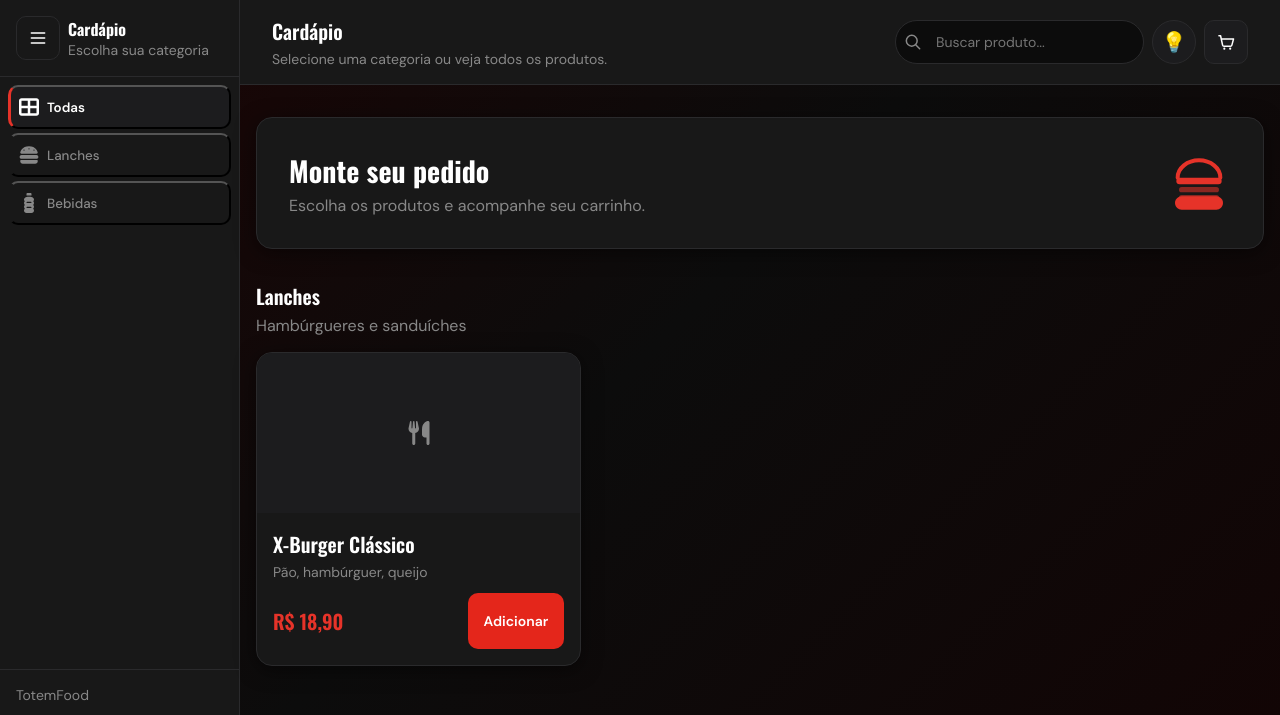
Test: TotemHomePage — modal de produto e modal de carrinho (TASK-120.1) › aumentar a quantidade no modal do produto antes de confirmar adiciona a quantidade escolhida
Expected: the heading "X-Burger Clássico" is shown, [273,529,415,559]
Click the button "Adicionar": (516, 621) [468,593,564,649]
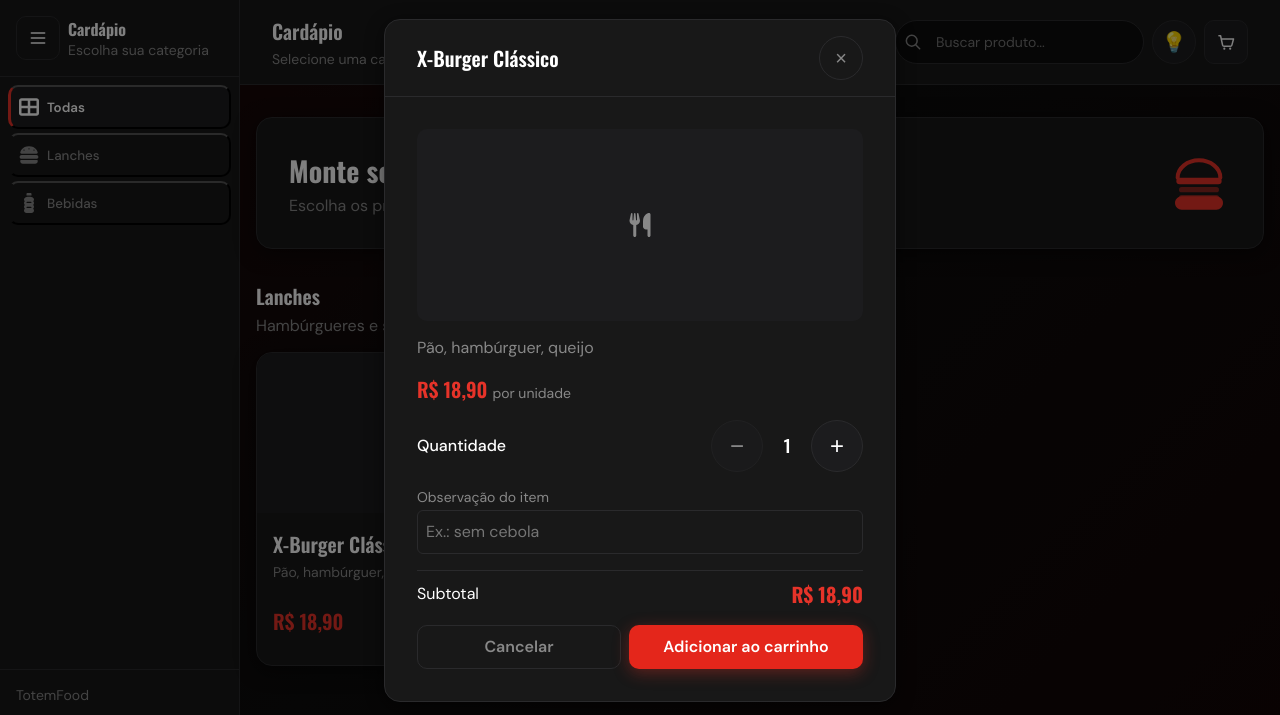
Click the button named "Aumentar quantidade": (837, 446) [811,420,863,472]
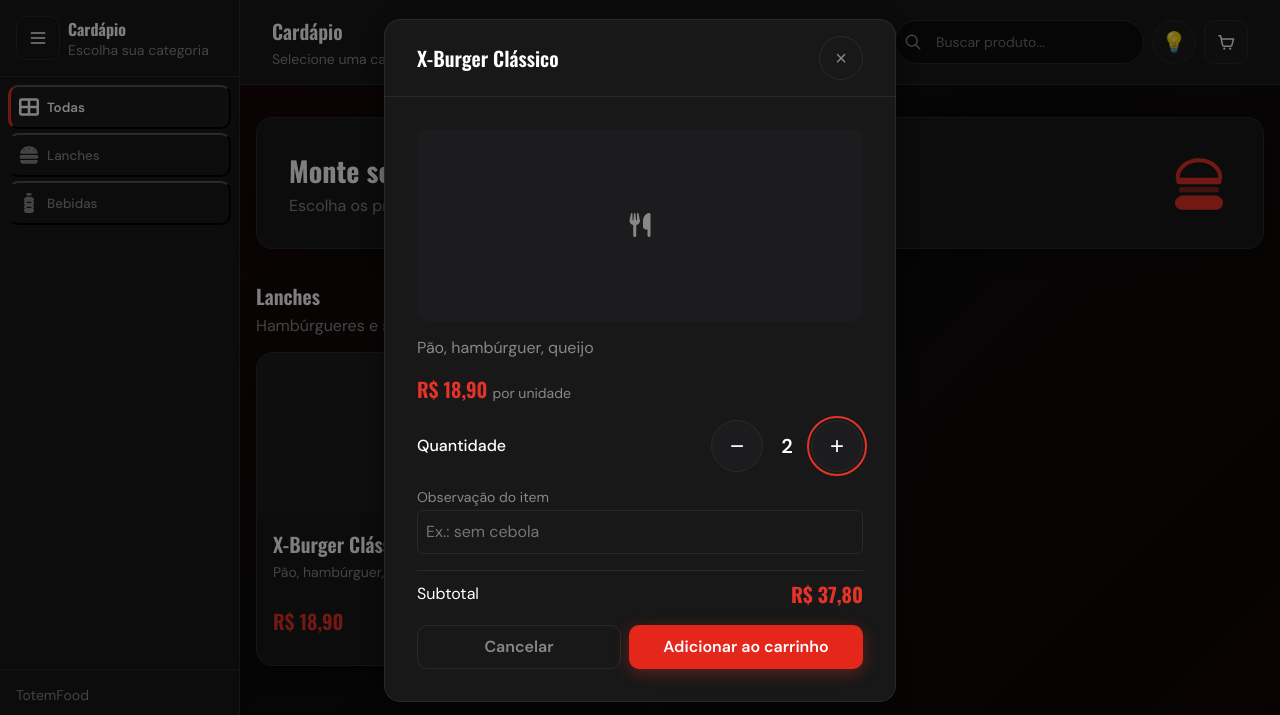
Click the button named "Aumentar quantidade": (837, 446) [811,420,863,472]
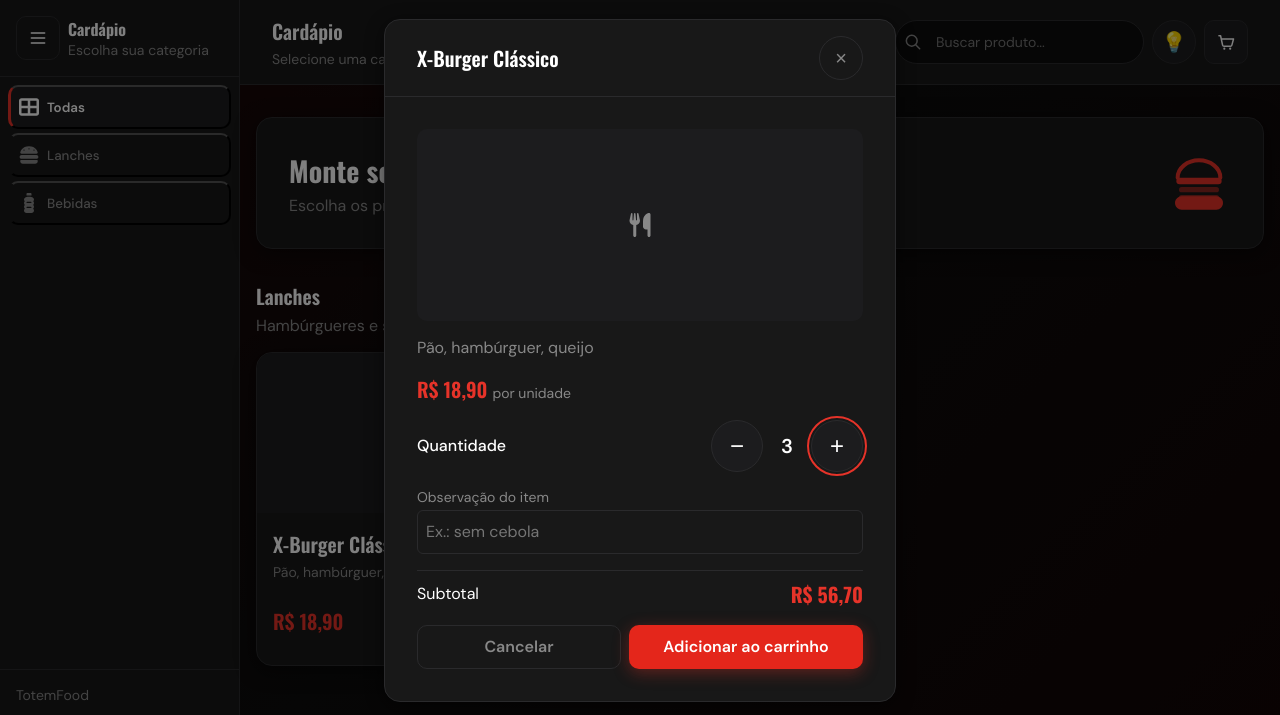
Click the button "Adicionar ao carrinho": (746, 646) [629,624,863,668]
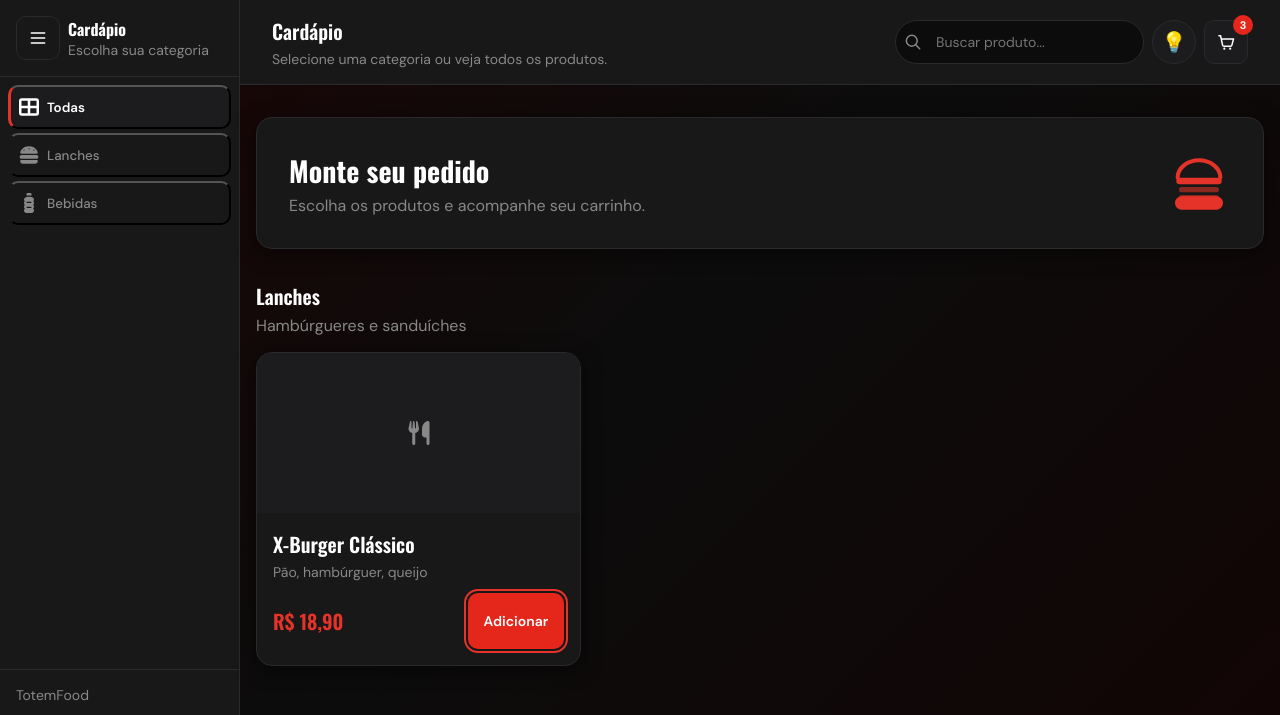
Now the button named "Abrir carrinho, 3 itens" is shown, box [1204,20,1248,64]
